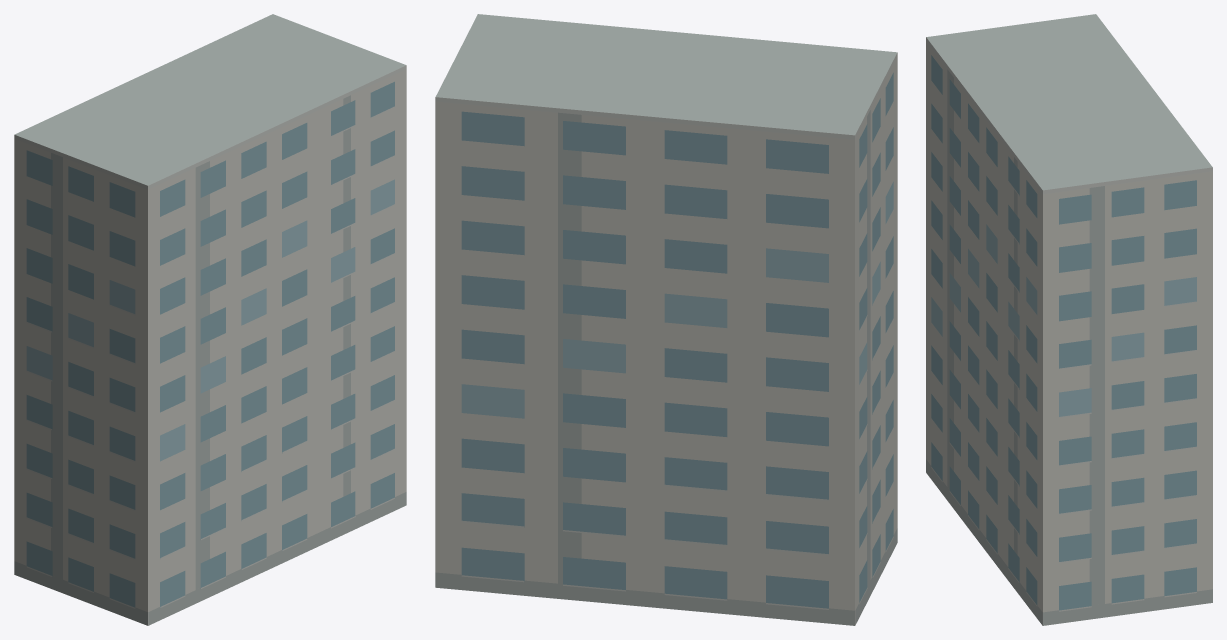
The model's file is residential-8e5d4618-1686-4ad0-9bb8-915b2c55def4.glb.
3 views of the same model, side by side, from view 1: azimuth 30°, elevation 25°; view 2: azimuth 150°, elevation 25°; view 3: azimuth 270°, elevation 25° (orthographic). The views are drawn at different scales.
Parts seen in each view (by area): view 1: residential-8e5d4618-1686-4ad0-9bb8-915b2c55def4.tmp; view 2: residential-8e5d4618-1686-4ad0-9bb8-915b2c55def4.tmp; view 3: residential-8e5d4618-1686-4ad0-9bb8-915b2c55def4.tmp.
Boxes of the visible parts, x1=… form: residential-8e5d4618-1686-4ad0-9bb8-915b2c55def4.tmp: x1=14, y1=14, x2=406, y2=625; residential-8e5d4618-1686-4ad0-9bb8-915b2c55def4.tmp: x1=435, y1=14, x2=897, y2=625; residential-8e5d4618-1686-4ad0-9bb8-915b2c55def4.tmp: x1=926, y1=14, x2=1212, y2=625.
Bounding box in the file's own units: 23.47 × 27 × 16.12.
